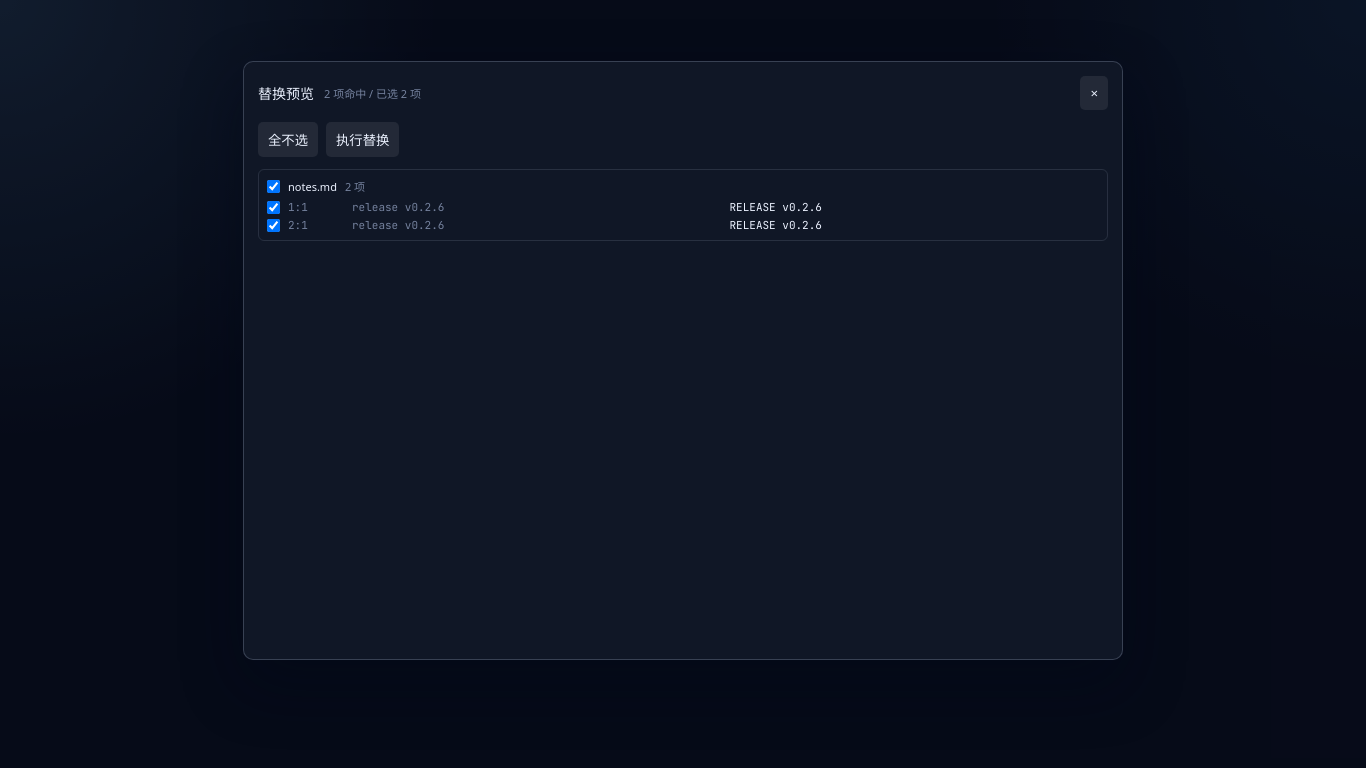
Test: ReplacePreviewDialog › 按文件全选与全不选切换选中状态
The image size is (1366, 768).
Click the checkbox with test id "replace-preview-file-0". click: click(274, 186)
box: [267,180,280,193]
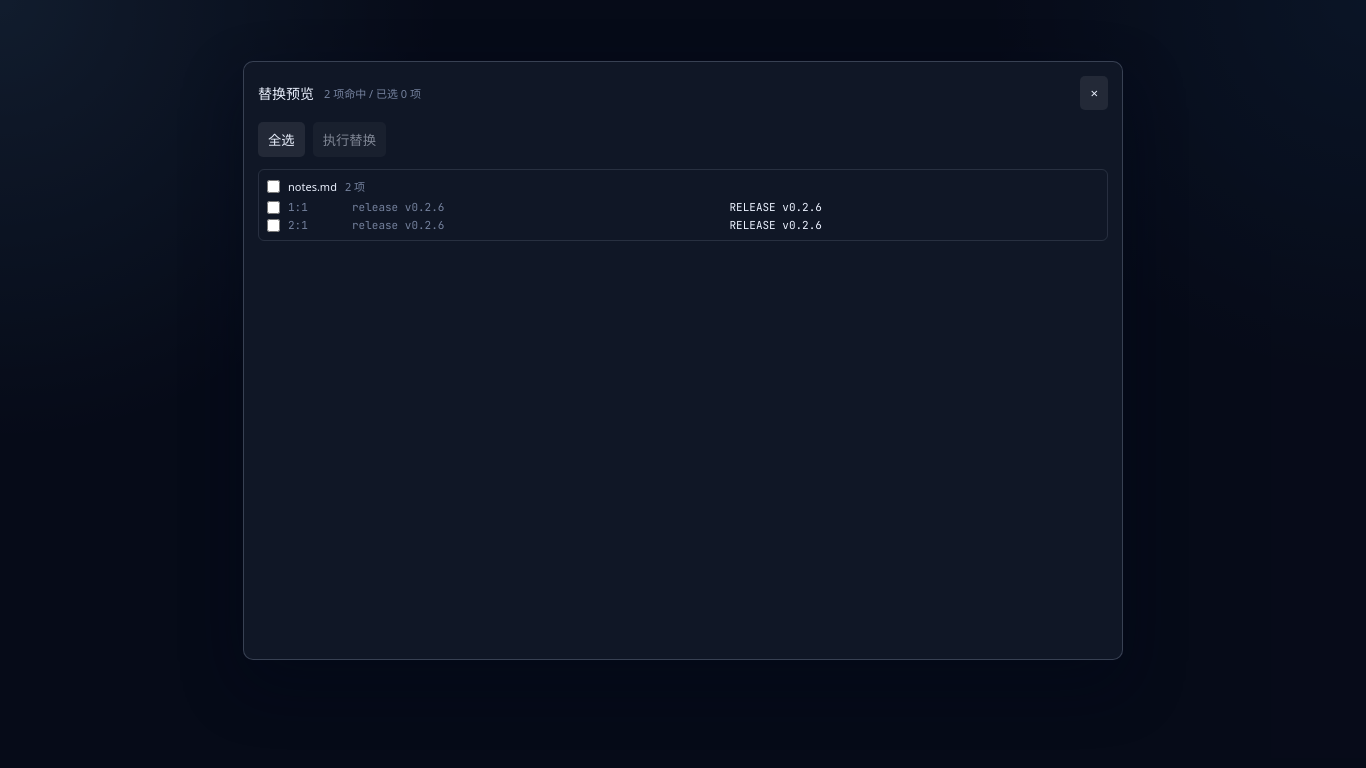
Check: the text "已选 0 项" is shown, box [324,86,421,101]
Click the button with test id "replace-preview-toggle-all". click: click(281, 140)
box: [258,122,305,157]
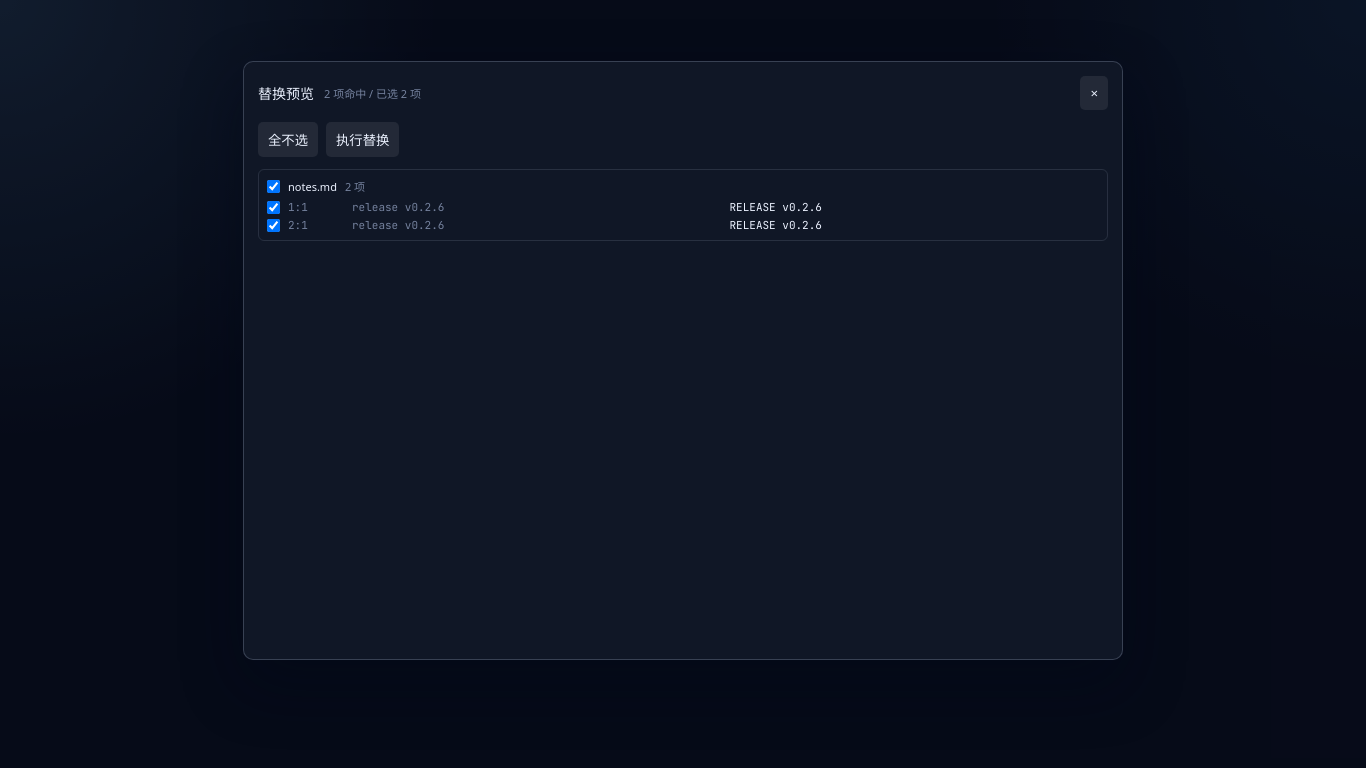
Check: the text "已选 2 项" is shown, box [324,86,421,101]
